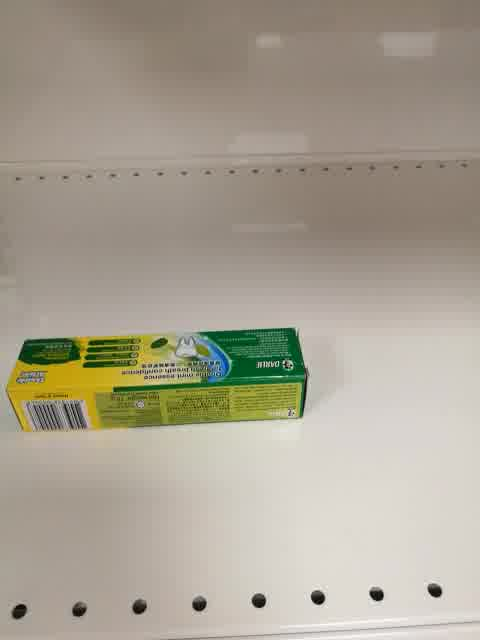toothpaste: (3, 326, 313, 434)
